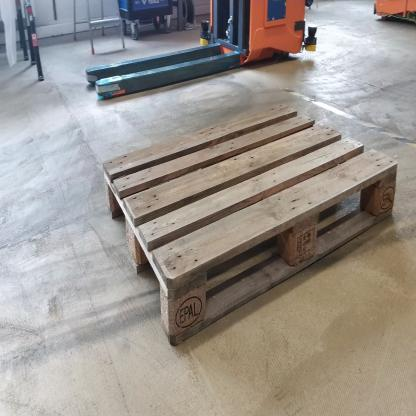BoxFace: (101, 98, 399, 353)
